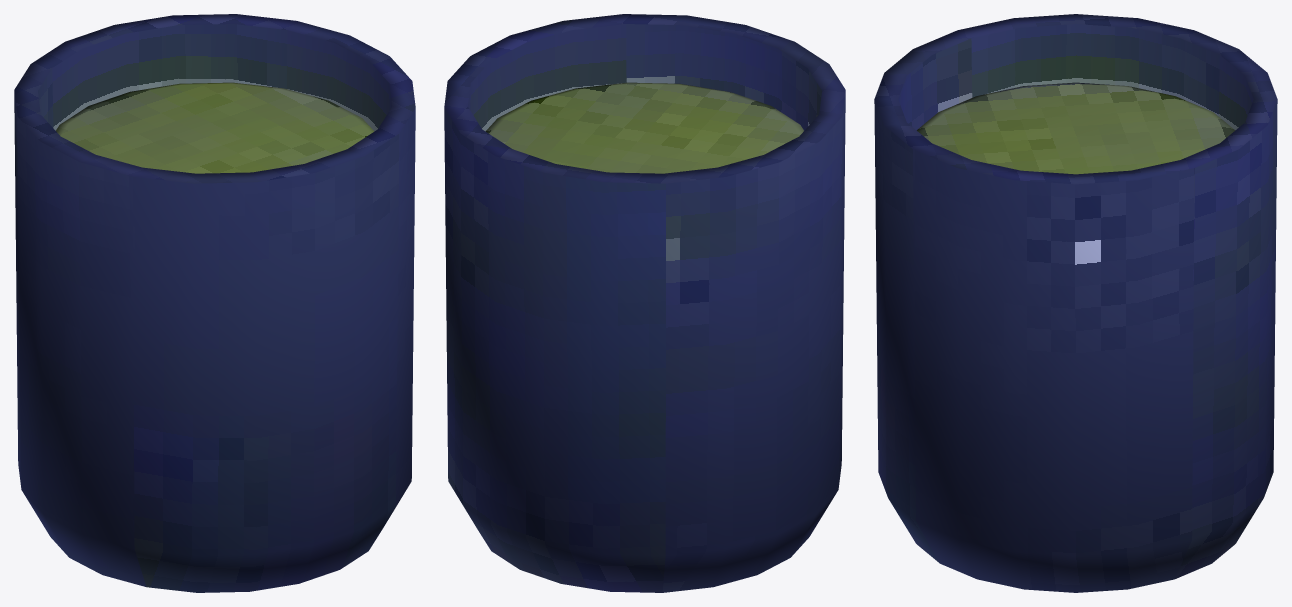
The model's file is yunomi_navy.glb.
The picture shows the model from 3 angles, left to right: view 1: azimuth 30°, elevation 25°; view 2: azimuth 150°, elevation 25°; view 3: azimuth 270°, elevation 25°; orthographic projection.
Visible parts, largest first — view 1: prop_yunomi_navy_felt; view 2: prop_yunomi_navy_felt; view 3: prop_yunomi_navy_felt.
Part boxes in pixels (x1,y1,x2,y2): prop_yunomi_navy_felt: (14, 14, 415, 592); prop_yunomi_navy_felt: (444, 14, 845, 592); prop_yunomi_navy_felt: (874, 14, 1277, 592).
Size of the model in its own units: 0.1102 by 0.1275 by 0.1102.
1 material, 1 textured.
